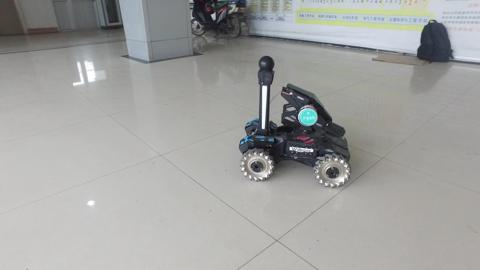bag: (416, 18, 455, 64)
chariot: (237, 54, 354, 188)
